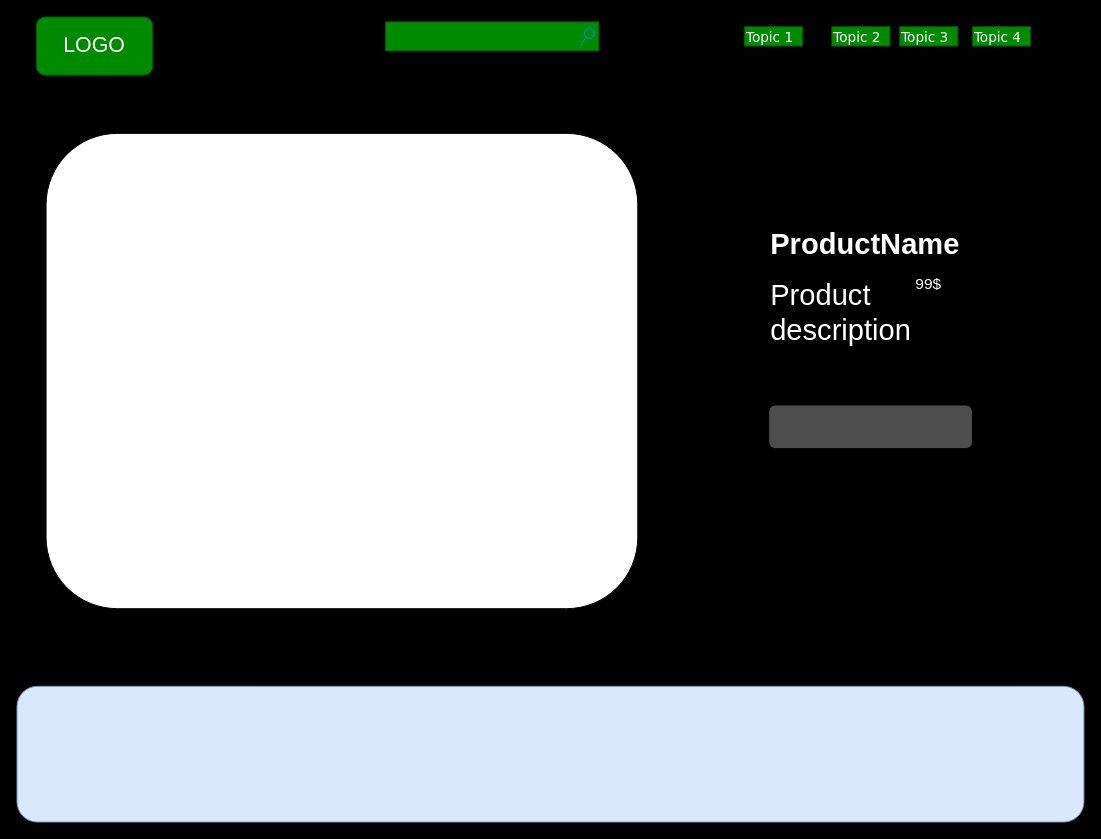
The diagram is 1101 pixels wide and 839 high, and some of its shapes have lost their labels. The shapes that lost their labels are listed below. From the top down, each one's box as (x1, y1, x2, y2) in pixels, then its label:
(385, 21, 599, 51): Search
(768, 404, 972, 449): Add To Cart
(16, 685, 1084, 822): Footer
